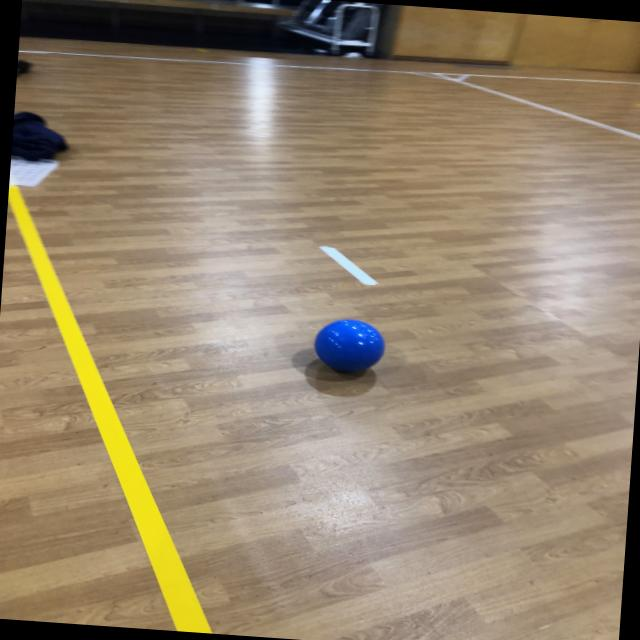blue_ball: (310, 316, 388, 380)
